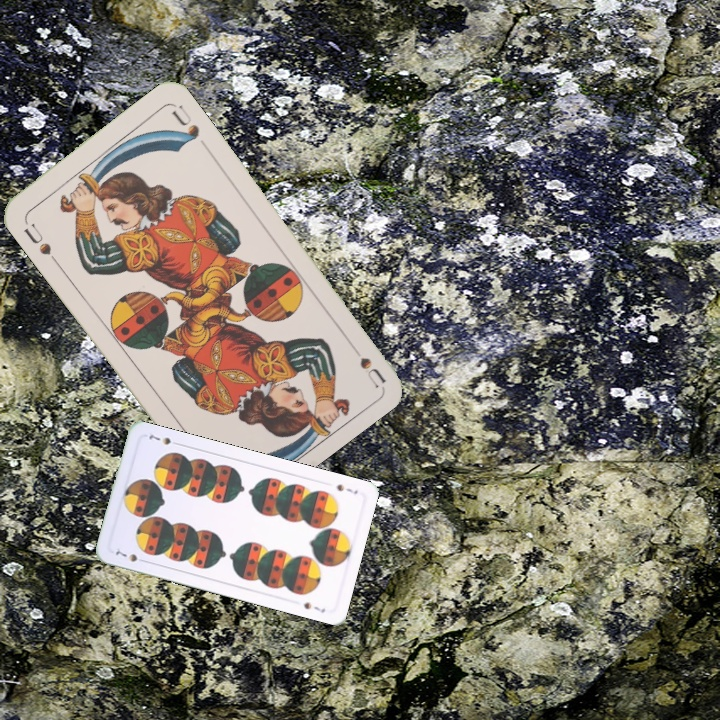S7: (111, 547, 149, 565), (332, 480, 360, 497)
SU: (19, 219, 61, 266), (355, 353, 387, 389)
